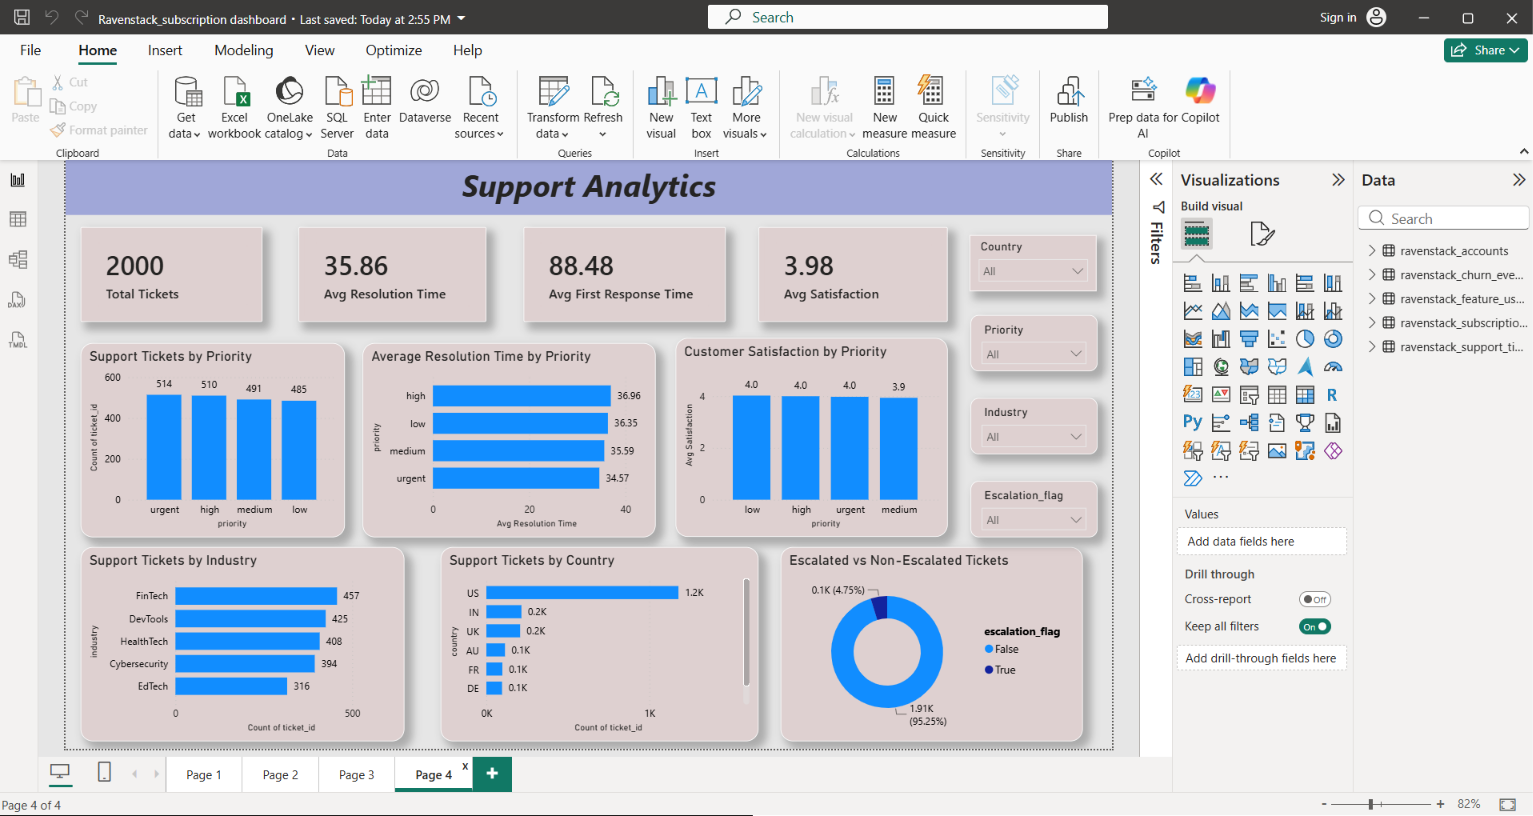

Layout of this report page (visuals, bound fields, positions):
{"tool":"powerbi","page":{"name":"Page 4","canvas":[1280,720],"ordinal":3},"visuals":[{"type":"cardVisual","fields":{"Data":["ravenstack_support_tickets.Total Tickets"]},"box":[18.3,81.9,222.6,116.2],"z":0},{"type":"cardVisual","fields":{"Data":["ravenstack_support_tickets.Avg Resolution Time"]},"box":[284.9,81.9,229.9,116.2],"z":1000},{"type":"cardVisual","fields":{"Data":["ravenstack_support_tickets.Avg First Response Time"]},"box":[560.1,81.9,247,116.2],"z":2000},{"type":"cardVisual","fields":{"Data":["ravenstack_support_tickets.Avg Satisfaction"]},"box":[847.4,81.9,231.1,116.2],"z":3000},{"type":"clusteredColumnChart","title":"Support Tickets by Priority","fields":{"Category":["ravenstack_support_tickets.priority"],"Y":["CountNonNull(ravenstack_support_tickets.ticket_id)"]},"box":[18.3,223.8,322.8,237.2],"z":4000},{"type":"clusteredBarChart","title":"Average Resolution Time by Priority","fields":{"Category":["ravenstack_support_tickets.priority"],"Y":["ravenstack_support_tickets.Avg Resolution Time"]},"box":[363.2,223.8,358.3,237.2],"z":5000},{"type":"clusteredColumnChart","title":"Customer Satisfaction by Priority","fields":{"Category":["ravenstack_support_tickets.priority"],"Y":["ravenstack_support_tickets.Avg Satisfaction"]},"box":[745.9,217.7,332.6,243.3],"z":6000},{"type":"clusteredBarChart","title":"Support Tickets by Industry","fields":{"Category":["ravenstack_accounts.industry"],"Y":["CountNonNull(ravenstack_support_tickets.ticket_id)"]},"box":[18.3,473.2,396.2,237.2],"z":7000},{"type":"clusteredBarChart","title":"Support Tickets by Country","fields":{"Y":["CountNonNull(ravenstack_support_tickets.ticket_id)"],"Category":["ravenstack_accounts.country"]},"box":[458.6,473.2,388.9,237.2],"z":8000},{"type":"donutChart","title":"Escalated vs Non-Escalated Tickets","fields":{"Category":["ravenstack_support_tickets.escalation_flag"],"Y":["CountNonNull(ravenstack_support_tickets.ticket_id)"]},"box":[874.3,473.2,369.3,237.2],"z":9000},{"type":"slicer","fields":{"Values":["ravenstack_support_tickets.priority"]},"box":[1106.7,189.5,155.3,68.5],"z":10000},{"type":"slicer","fields":{"Values":["ravenstack_accounts.country"]},"box":[1105.4,91.7,155.3,68.5],"z":11000},{"type":"slicer","fields":{"Values":["ravenstack_accounts.industry"]},"box":[1106.7,291,155.3,68.5],"z":12000},{"type":"slicer","fields":{"Values":["ravenstack_support_tickets.escalation_flag"]},"box":[1106.7,392.5,155.3,68.5],"z":13000},{"type":"textbox","box":[0,0,1280.3,67.3],"z":14000}]}

Visuals, with their boxes on the page's 1280x720 design canvas (x1, y1, x2, y2). These are canvas units, not pixel positions in the 1533x816 screenshot, which may show the page scaled, cropped or inside an application window:
cardVisual - ravenstack_support_tickets.Total Tickets: locate(18, 82, 241, 198)
cardVisual - ravenstack_support_tickets.Avg Resolution Time: locate(285, 82, 515, 198)
cardVisual - ravenstack_support_tickets.Avg First Response Time: locate(560, 82, 807, 198)
cardVisual - ravenstack_support_tickets.Avg Satisfaction: locate(847, 82, 1078, 198)
"Support Tickets by Priority" clusteredColumnChart: locate(18, 224, 341, 461)
"Average Resolution Time by Priority" clusteredBarChart: locate(363, 224, 722, 461)
"Customer Satisfaction by Priority" clusteredColumnChart: locate(746, 218, 1078, 461)
"Support Tickets by Industry" clusteredBarChart: locate(18, 473, 414, 710)
"Support Tickets by Country" clusteredBarChart: locate(459, 473, 848, 710)
"Escalated vs Non-Escalated Tickets" donutChart: locate(874, 473, 1244, 710)
slicer - ravenstack_support_tickets.priority: locate(1107, 190, 1262, 258)
slicer - ravenstack_accounts.country: locate(1105, 92, 1261, 160)
slicer - ravenstack_accounts.industry: locate(1107, 291, 1262, 360)
slicer - ravenstack_support_tickets.escalation_flag: locate(1107, 392, 1262, 461)
textbox: locate(0, 0, 1280, 67)
